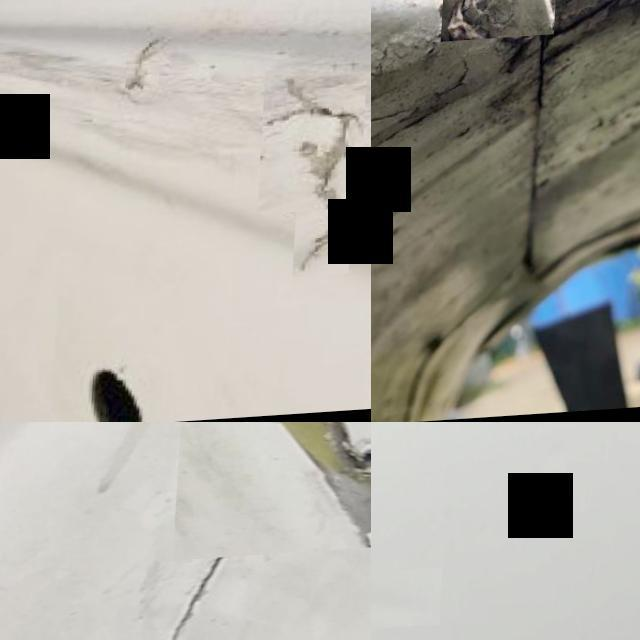Crack: (178, 422, 371, 563), (267, 83, 369, 216), (443, 0, 561, 45), (299, 212, 357, 284)
Dent: (371, 585, 447, 631)
